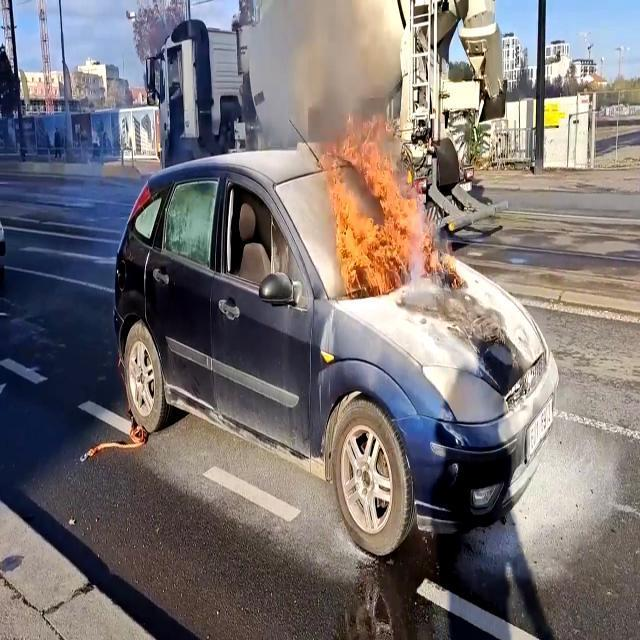Fire: (322, 120, 436, 290)
Smoke: (242, 0, 414, 165)
